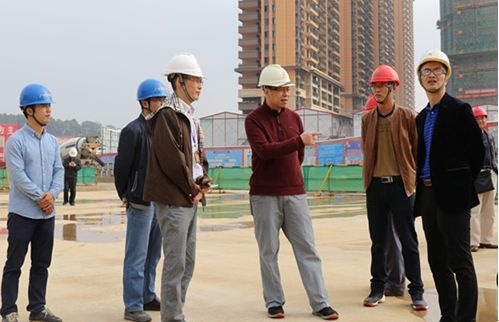blue: (17, 82, 57, 132), (135, 76, 168, 117)
red: (365, 61, 402, 108), (469, 103, 489, 130)
white: (163, 50, 206, 106), (413, 47, 458, 100), (256, 60, 297, 113)
